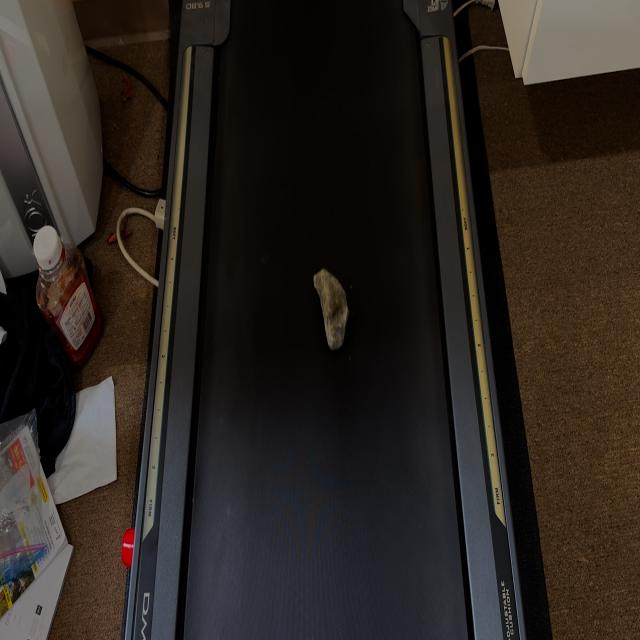Trash: (308, 266, 349, 352)
